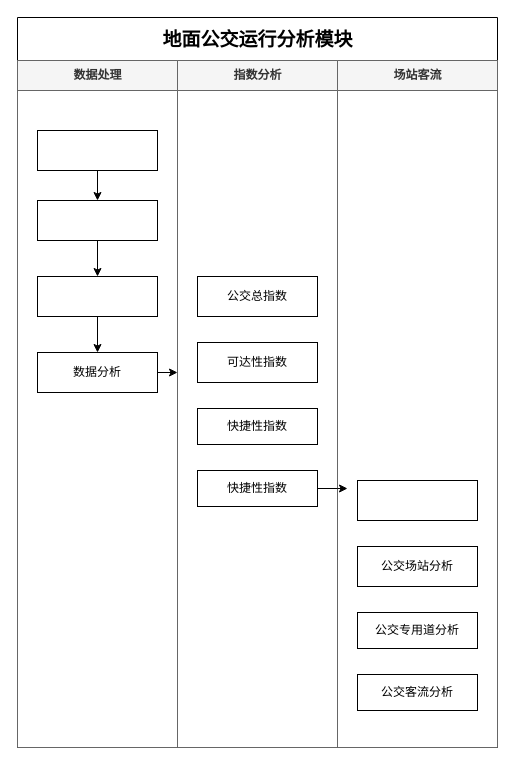
Some shapes in this 515 by 765 pixel diagram are drawn without their labels. Each missing label, with the centre of its shape:
"公交数据监控" goes at pixel 97 296.
"公交线路分析" goes at pixel 417 500.
"权限管理" goes at pixel 97 150.
"网站运行监控" goes at pixel 97 220.
